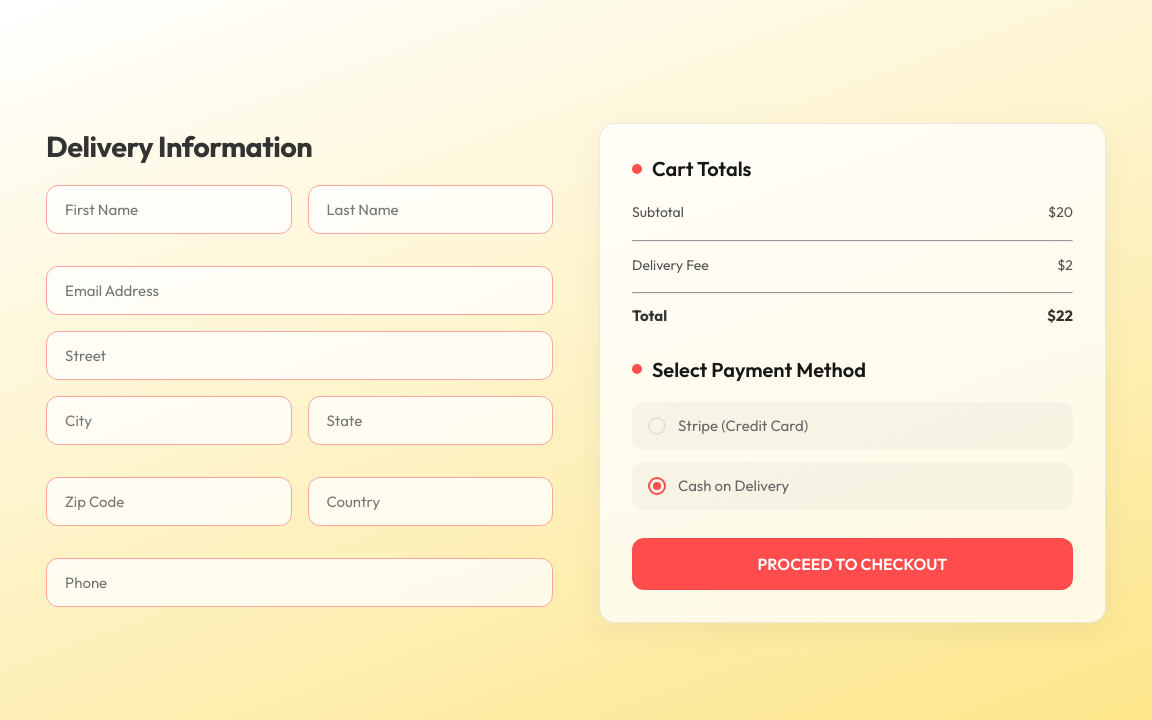
it: PlaceOrder Page › switches back to COD after selecting stripe
Click the text "Stripe (Credit Card)".
click(743, 426)  # box [678,414,808,438]
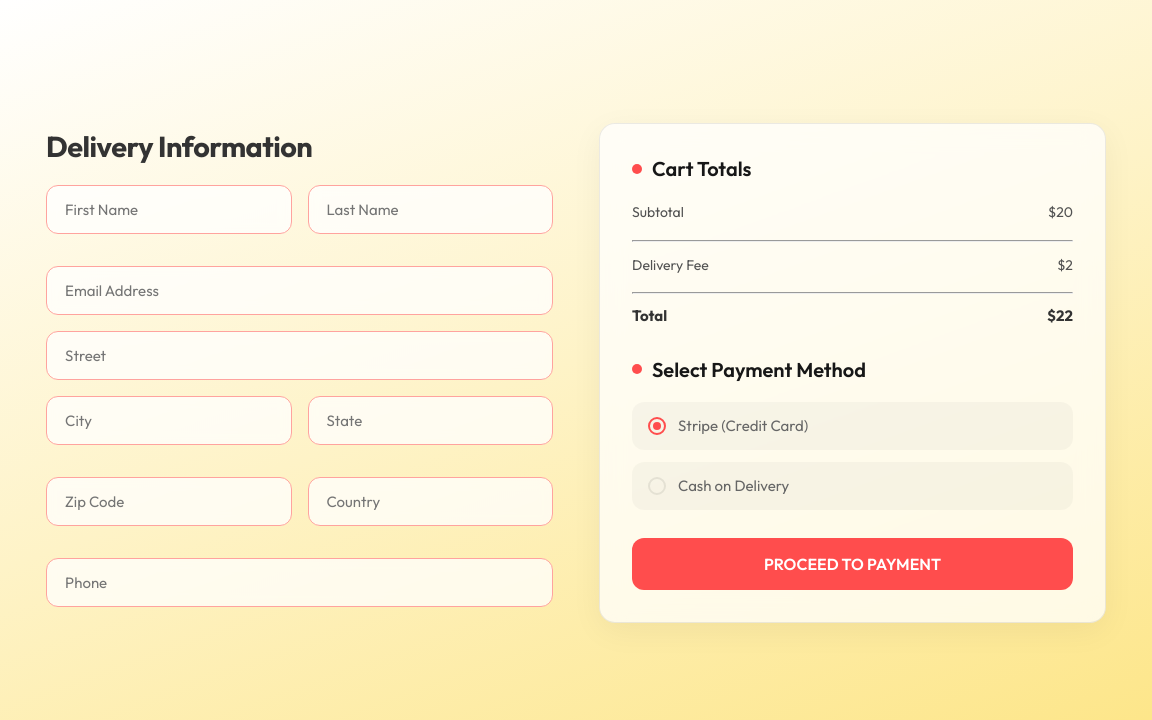
Check: the button "PROCEED TO PAYMENT" is shown, box [632,538,1073,590]
Click the text "Cash on Delivery".
click(734, 486)  # box [678,474,789,498]
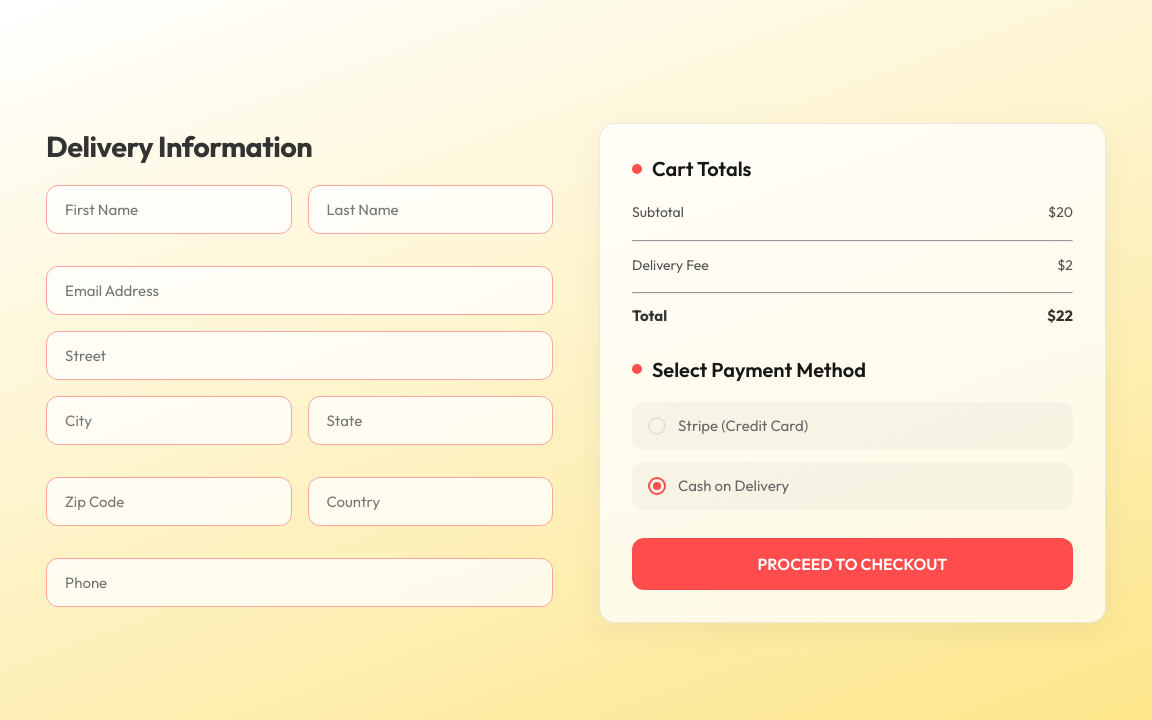
Check: the button "PROCEED TO CHECKOUT" is shown, box [632,538,1073,590]
